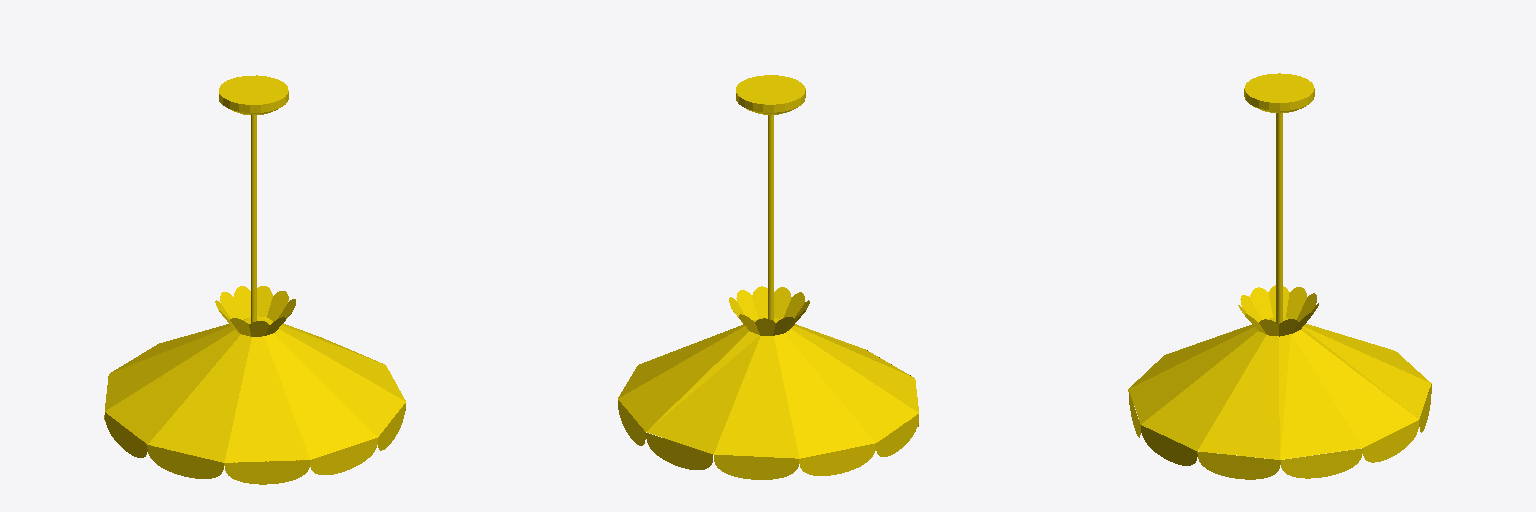
The picture shows the model from 3 angles: view 1: azimuth 30°, elevation 25°; view 2: azimuth 150°, elevation 25°; view 3: azimuth 270°, elevation 25°; orthographic projection.
Visible parts, largest first — view 1: lampara:pCylinder4; view 2: lampara:pCylinder4; view 3: lampara:pCylinder4.
Part boxes in pixels (bbox=[...]): lampara:pCylinder4: bbox=[104, 75, 405, 484]; lampara:pCylinder4: bbox=[618, 75, 918, 479]; lampara:pCylinder4: bbox=[1128, 73, 1431, 479].
Bounding box in the file's own units: 2.12 × 2.6 × 2.14.
Materials: 1 (1 with a texture image).